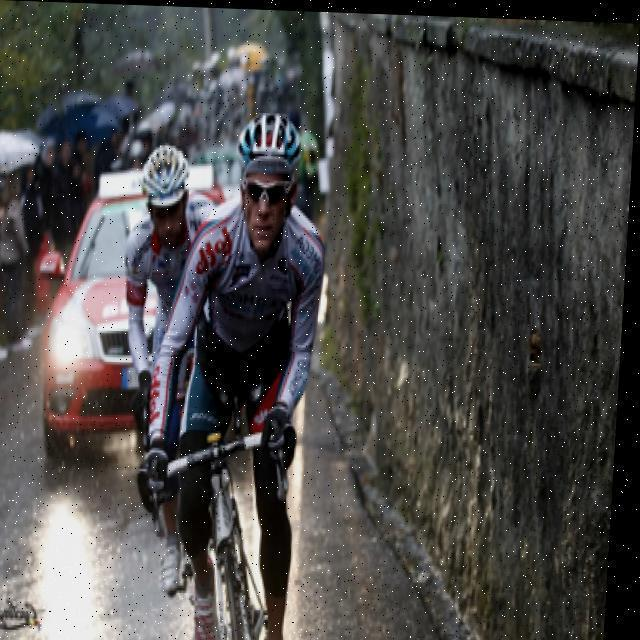Helmet: (226, 100, 312, 258), (126, 131, 206, 267)
